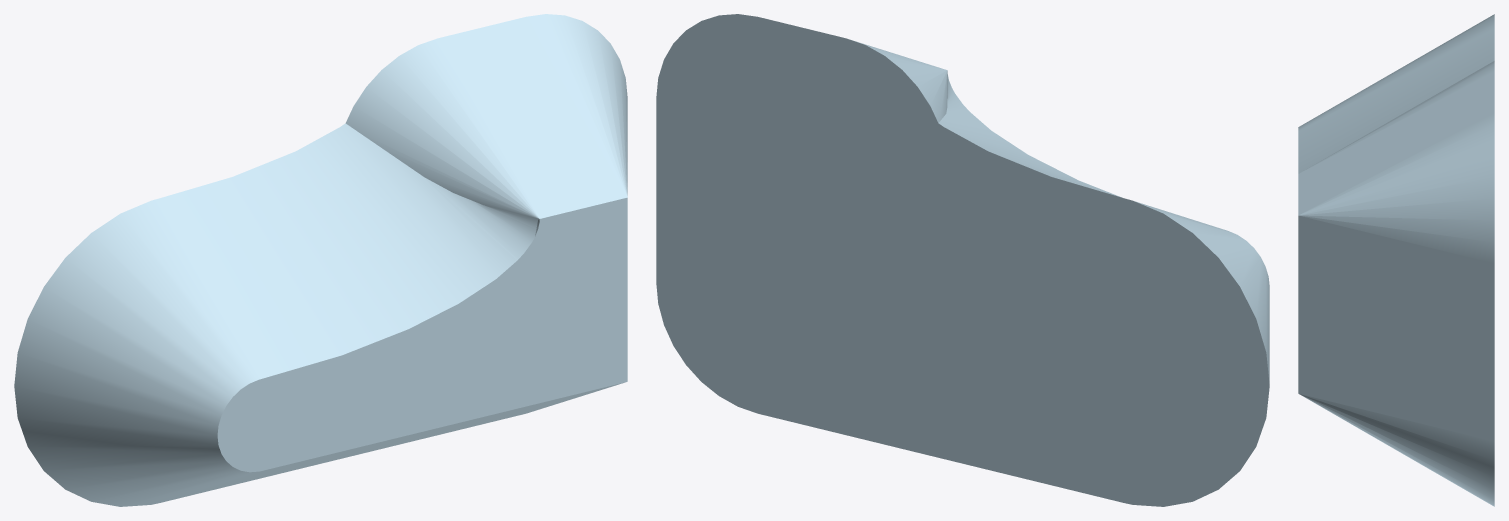
File: Engrave4.gltf
3 renders of one model, left to right at view 1: azimuth 30°, elevation 25°; view 2: azimuth 150°, elevation 25°; view 3: azimuth 270°, elevation 25°, orthographic. The views are drawn at different scales.
Parts seen in each view (by area): view 1: Part 1; view 2: Part 1; view 3: Part 1.
Part boxes in pixels (x1,y1,x2,y2): Part 1: (14,14,627,506); Part 1: (656,14,1269,506); Part 1: (1298,14,1494,506).
Bounding box in the file's own units: 0.0885 × 0.0547 × 0.0254.
